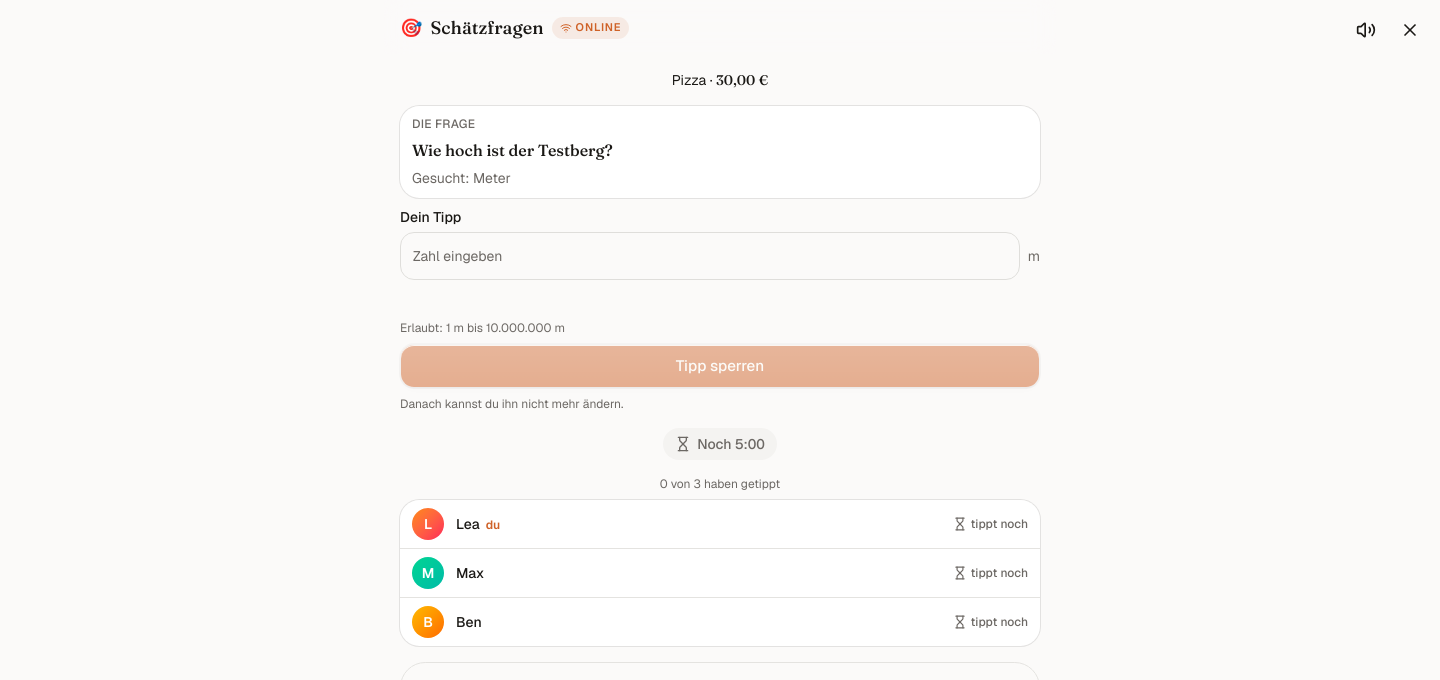
Scenario: EstimateRoundPageClient › locking a guess › keeps what was typed after a failed lock, so the retry needs no retyping
Step 1. Type "1000" into the field → [710, 256], box [400,232,1020,280]
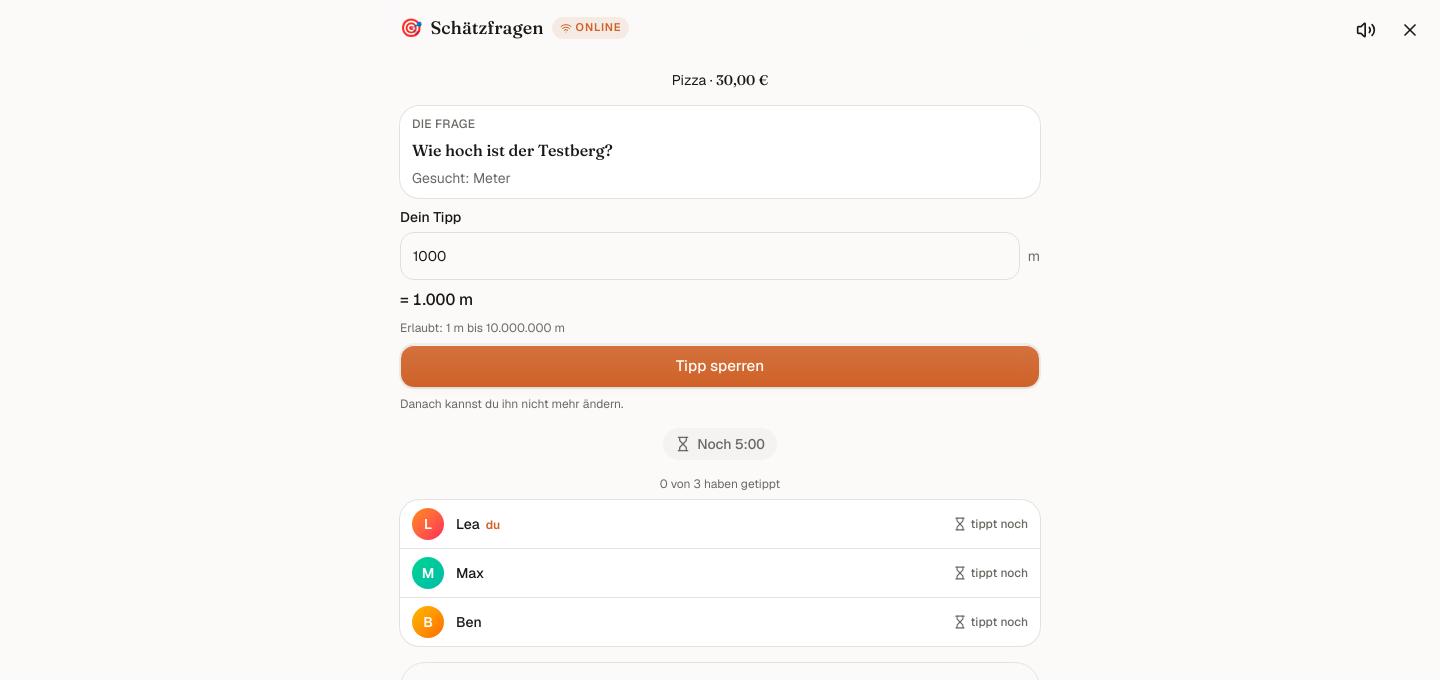
Step 2. Click the button "Tipp sperren" → [720, 366], box [400,344,1040,388]
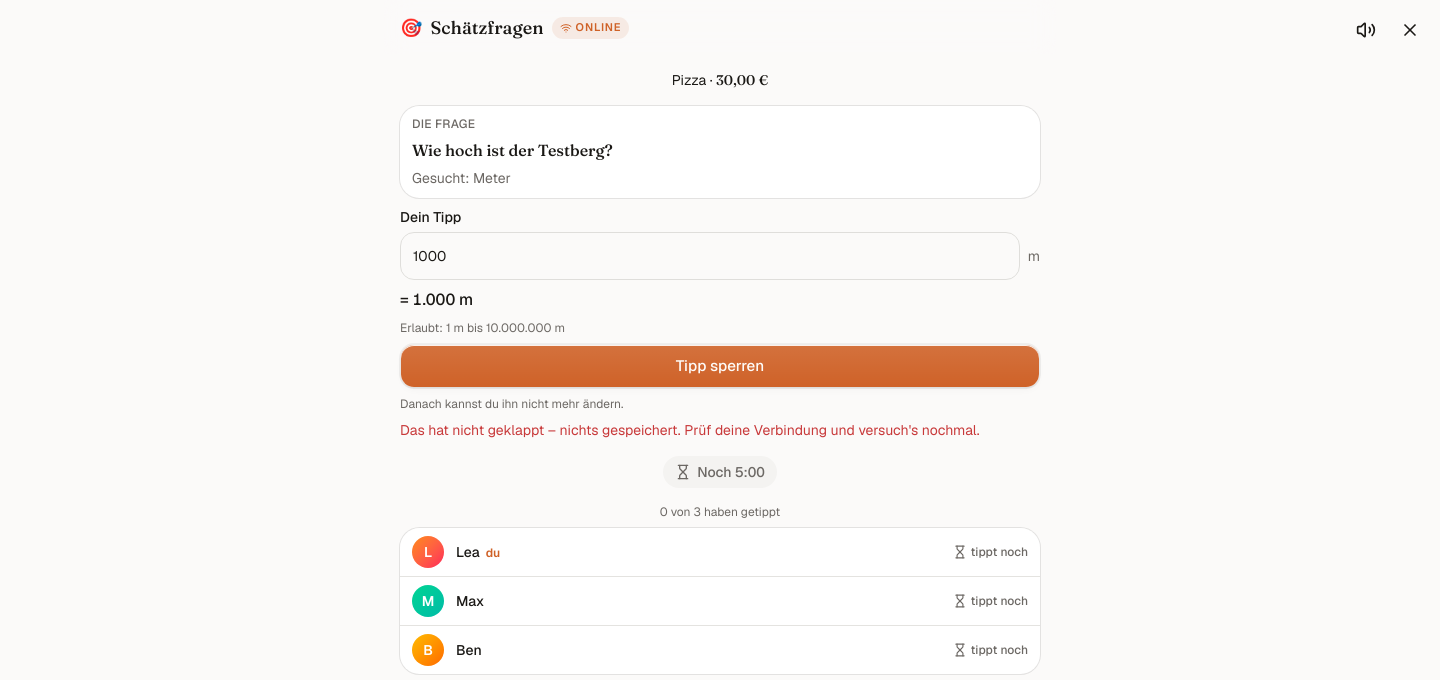
Check: the button "Tipp sperren" is enabled
Step 3. Click the button "Tipp sperren" → [720, 366], box [400,344,1040,388]
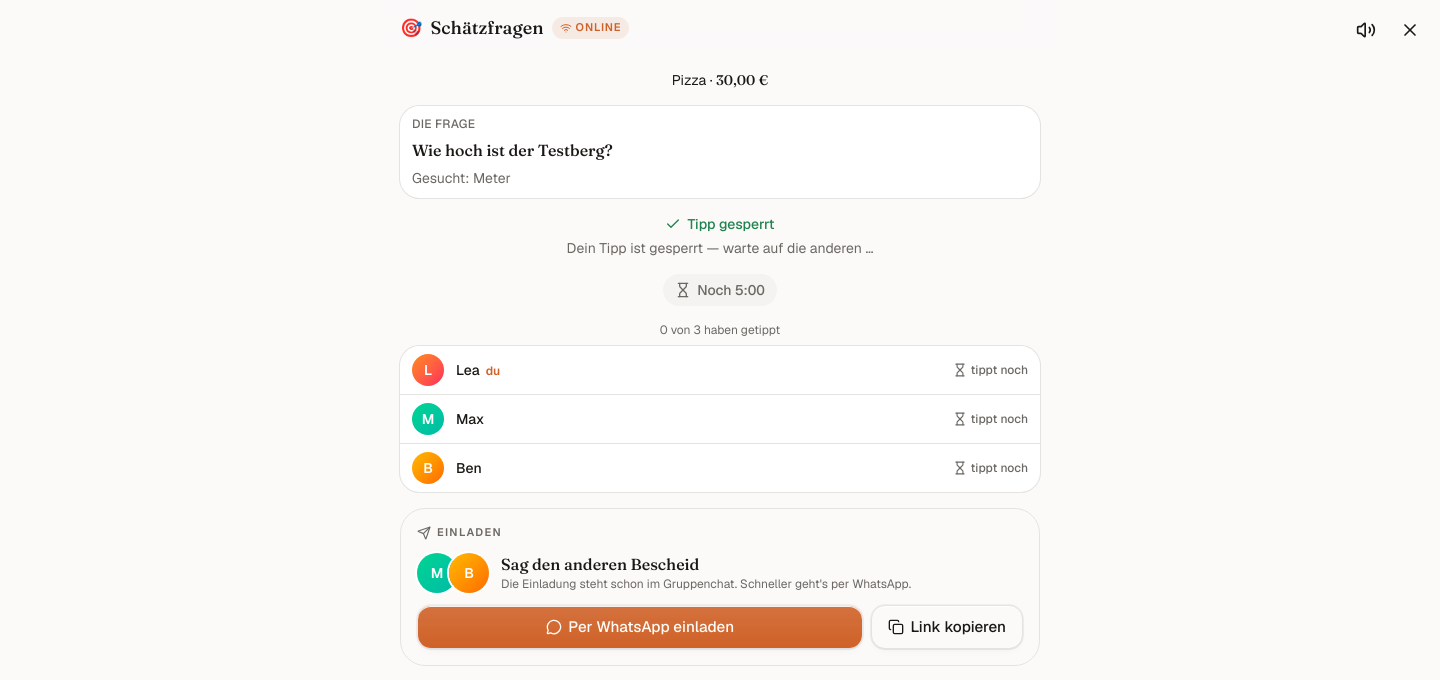
Check: the field is gone
